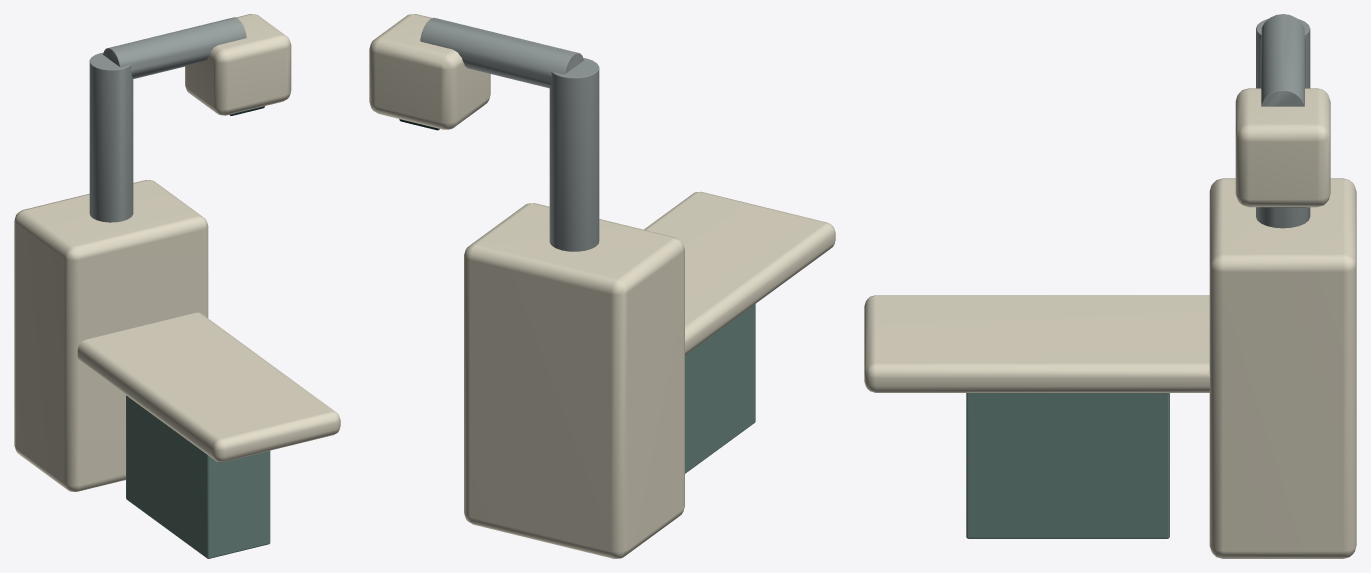
The model's file is H_Radiology.fbx.
3 views of the same model, side by side, from view 1: azimuth 30°, elevation 25°; view 2: azimuth 150°, elevation 25°; view 3: azimuth 270°, elevation 25° (orthographic). The views are drawn at different scales.
Visible parts, largest first — view 1: H_Radiology; view 2: H_Radiology; view 3: H_Radiology.
Part boxes in pixels (box(x1,y1,x2,y2)): H_Radiology: box(14, 14, 340, 558); H_Radiology: box(369, 14, 835, 558); H_Radiology: box(864, 14, 1356, 558).
Size of the model in its own units: 1.49 by 2.47 by 2.17.
